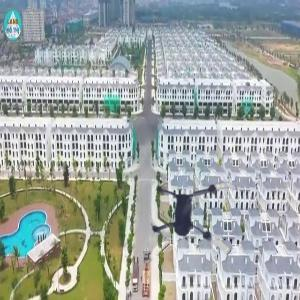drone: (139, 164, 249, 274)
